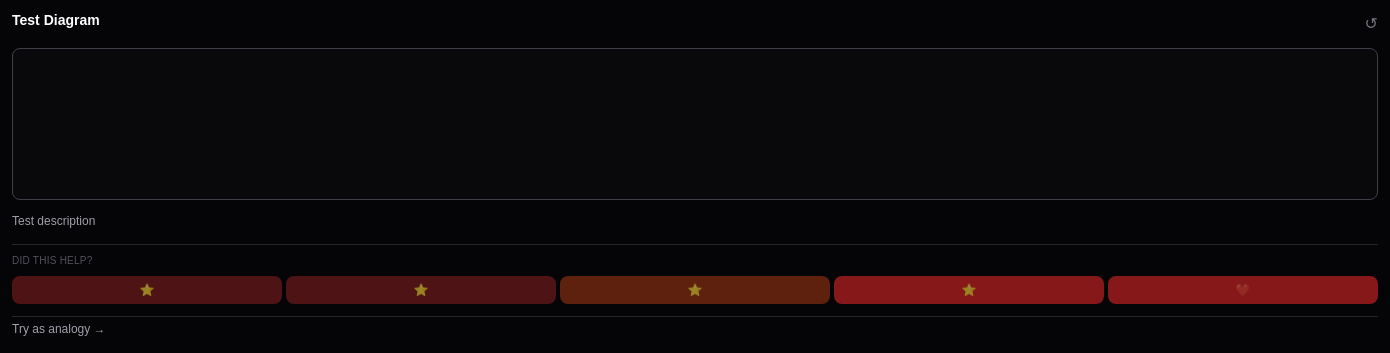
Test: Explainer Feedback Components › DiagramExplainer Feedback › should show success message after feedback
The image size is (1390, 353).
Click the button titled "Rate 5/5": x=1243, y=290 x1=1108 y1=276 x2=1378 y2=304
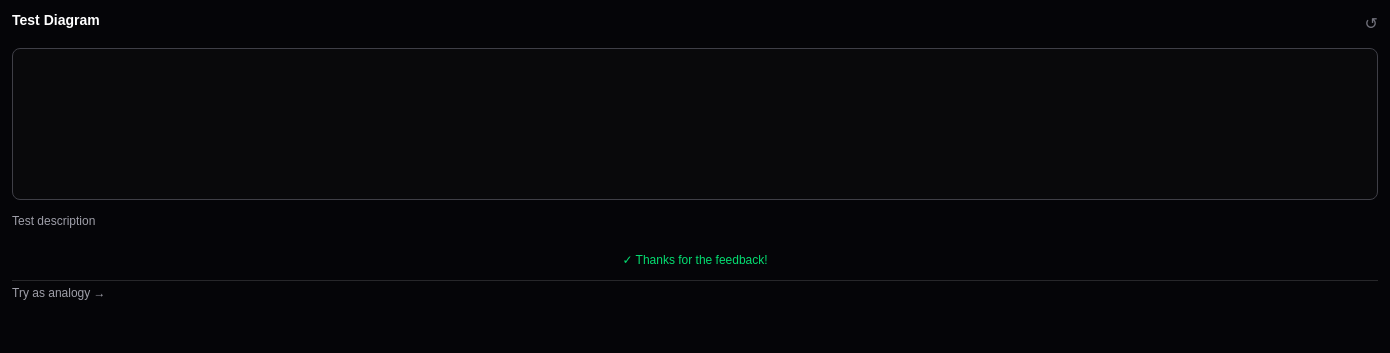
Now the text "✓ Thanks for the feedback!" is shown, box x1=622 y1=252 x2=768 y2=266
